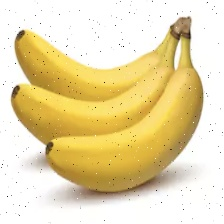banana: (25, 11, 189, 182)
